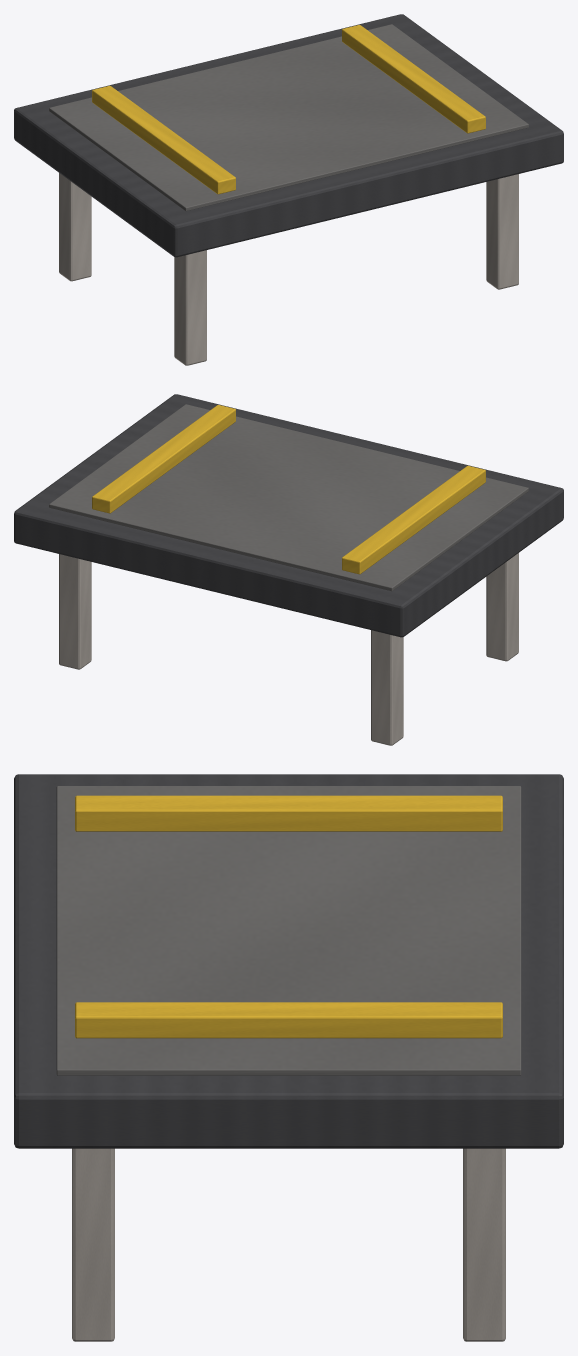
File: test_stand.glb
3 renders of one model, top to bottom at view 1: azimuth 30°, elevation 25°; view 2: azimuth 150°, elevation 25°; view 3: azimuth 270°, elevation 25°, orthographic. The views are drawn at different scales.
Parts seen in each view (by area): view 1: test_surface.001, platform.002, MESH_MAT_Painted_Ivory.194, MESH_MAT_Safety_Yellow.066; view 2: test_surface.001, platform.002, MESH_MAT_Painted_Ivory.194, MESH_MAT_Safety_Yellow.066; view 3: test_surface.001, platform.002, MESH_MAT_Safety_Yellow.066, MESH_MAT_Painted_Ivory.194.
Part boxes in pixels (box(x1,y1,x2,y2)): test_surface.001: box(49, 24, 528, 211); platform.002: box(14, 14, 563, 257); MESH_MAT_Painted_Ivory.194: box(59, 173, 518, 365); MESH_MAT_Safety_Yellow.066: box(92, 25, 485, 194); test_surface.001: box(49, 404, 528, 591); platform.002: box(14, 394, 563, 637); MESH_MAT_Painted_Ivory.194: box(59, 553, 518, 745); MESH_MAT_Safety_Yellow.066: box(92, 405, 485, 574); test_surface.001: box(56, 786, 521, 1075); platform.002: box(14, 774, 563, 1148); MESH_MAT_Safety_Yellow.066: box(75, 795, 502, 1038); MESH_MAT_Painted_Ivory.194: box(72, 1148, 505, 1341).
Size of the model in its own units: 1.25 by 0.54 by 0.9.
4 materials, 4 textured.
